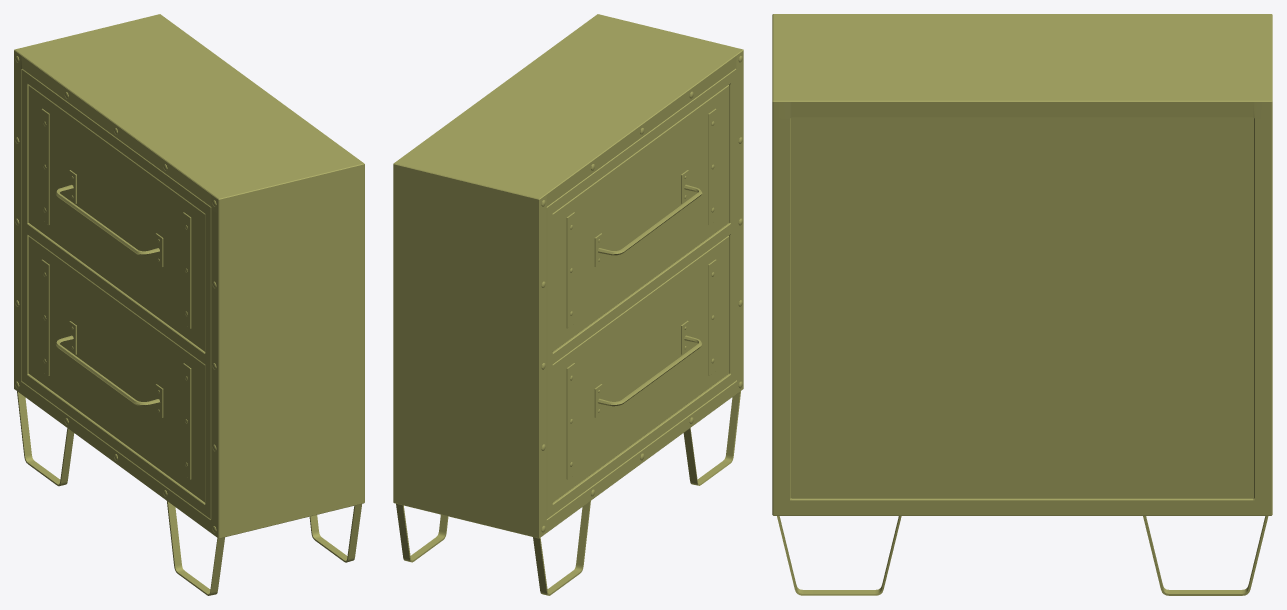
File: Drawer.fbx
3 renders of one model, left to right at view 1: azimuth 30°, elevation 25°; view 2: azimuth 150°, elevation 25°; view 3: azimuth 270°, elevation 25°, orthographic. The views are drawn at different scales.
Parts seen in each view (by area): view 1: Drawer; view 2: Drawer; view 3: Drawer.
Boxes of the visible parts, <box> form: Drawer: <box>14,14,364,595</box>; Drawer: <box>393,14,743,595</box>; Drawer: <box>772,14,1272,595</box>.
Size of the model in its own units: 28.39 by 65.77 by 60.14.
